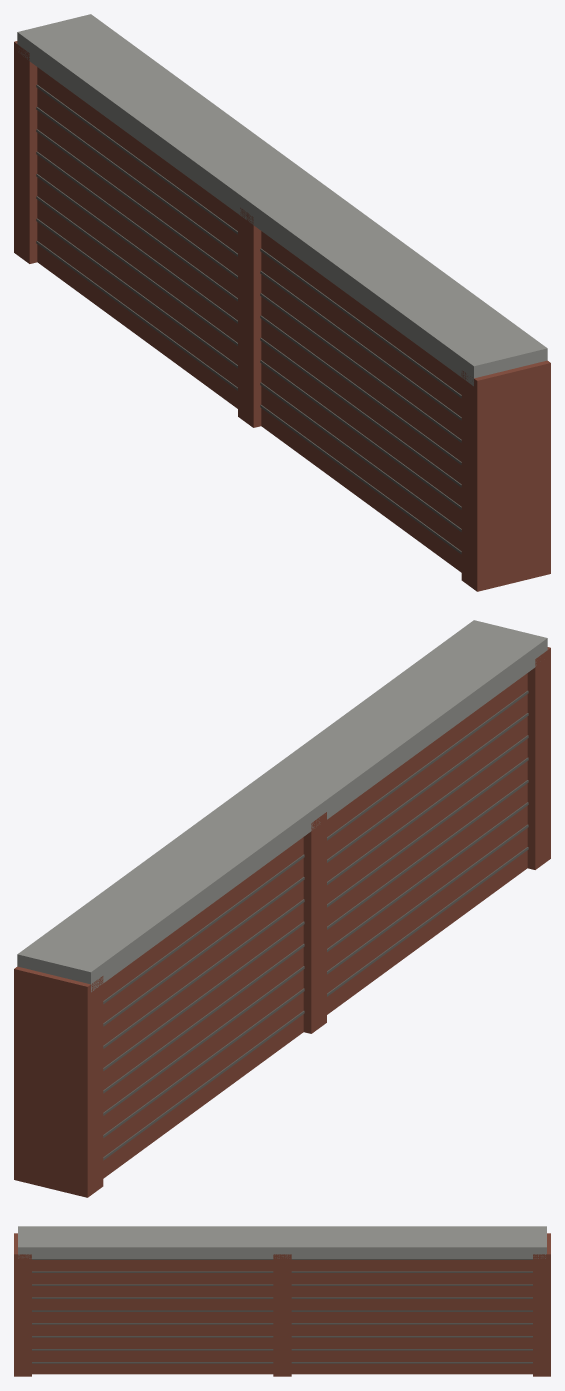
The model's file is brick_wall_low.glb.
The picture shows the model from 3 angles, top to bottom: view 1: azimuth 30°, elevation 25°; view 2: azimuth 150°, elevation 25°; view 3: azimuth 270°, elevation 25°; orthographic projection. The views are drawn at different scales.
Visible parts, largest first — view 1: brick_wall_low; view 2: brick_wall_low; view 3: brick_wall_low.
Part boxes in pixels (bbox=[...]): brick_wall_low: bbox=[14, 14, 550, 591]; brick_wall_low: bbox=[14, 620, 550, 1197]; brick_wall_low: bbox=[14, 1226, 550, 1376].
Bounding box in the file's own units: 0.38 × 1.1 × 4.14.
